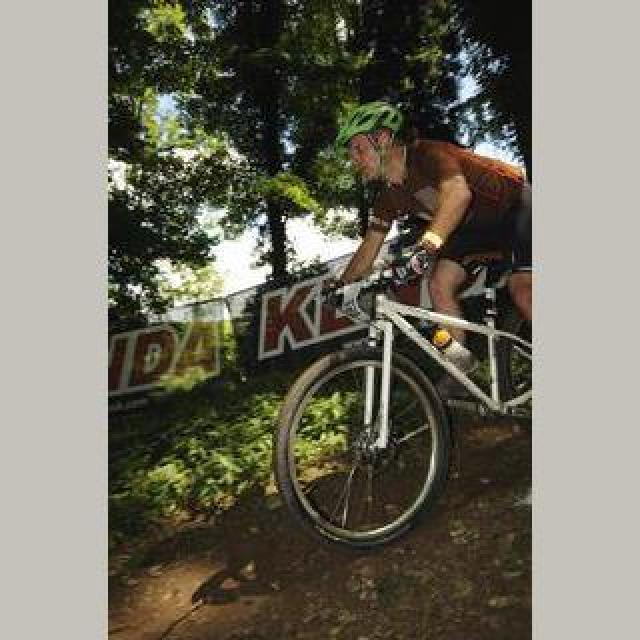MC-Bike: (326, 98, 530, 370)
Person: (276, 256, 532, 548)
